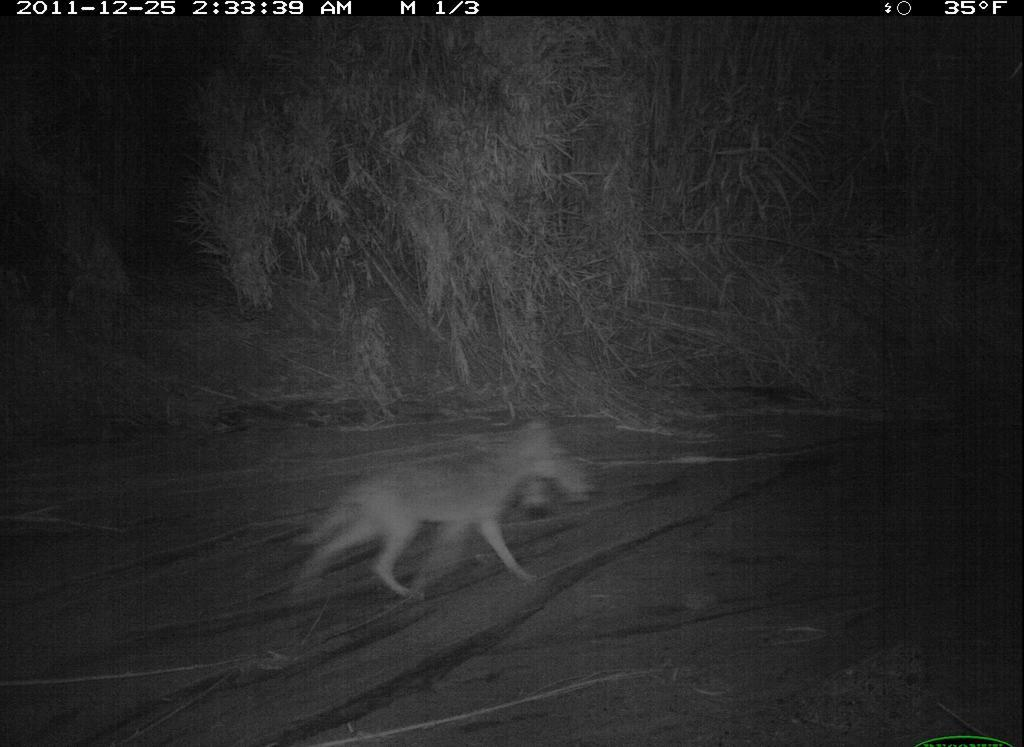coyote: (280, 405, 603, 619)
